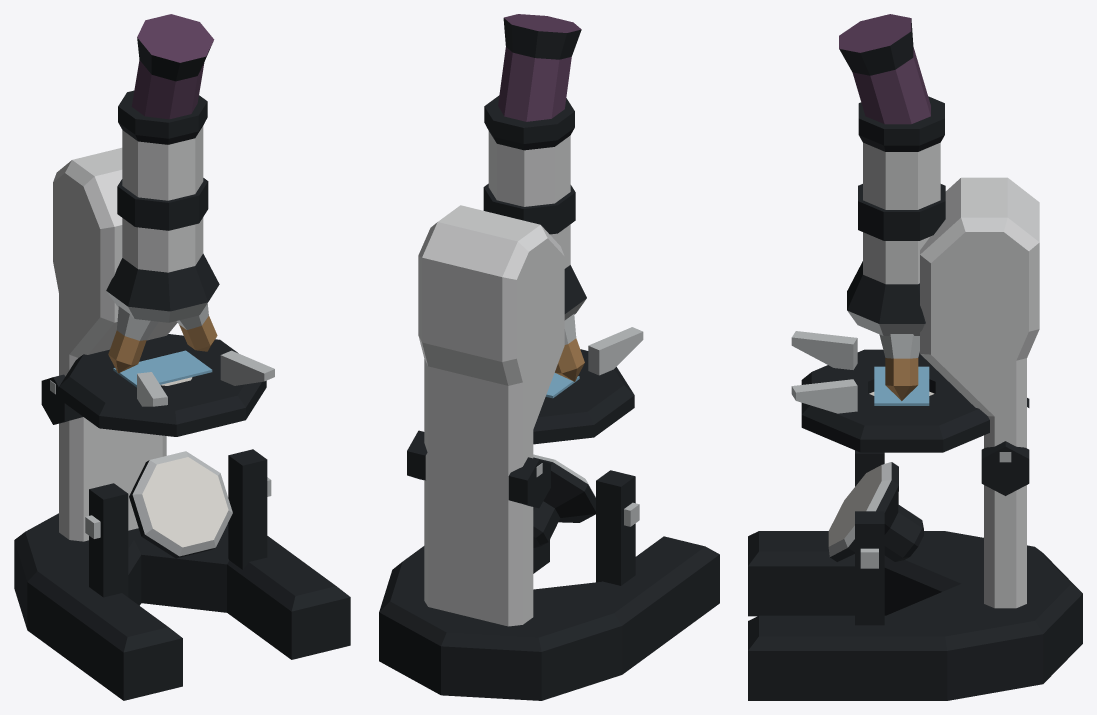
File: microscope-e7b9d5.glb
3 renders of one model, left to right at view 1: azimuth 30°, elevation 25°; view 2: azimuth 150°, elevation 25°; view 3: azimuth 270°, elevation 25°, orthographic. The views are drawn at different scales.
Parts seen in each view (by area): view 1: body, tube, illuminator-mesh, turret-mesh, slide-mesh, focus-knobs-mesh; view 2: body, tube, illuminator-mesh, focus-knobs-mesh, turret-mesh; view 3: body, tube, turret-mesh, illuminator-mesh, focus-knobs-mesh, slide-mesh.
Part boxes in pixels (bbox=[...]): body: bbox=[14, 147, 350, 700]; tube: bbox=[117, 14, 214, 272]; illuminator-mesh: bbox=[129, 451, 232, 558]; turret-mesh: bbox=[106, 253, 219, 373]; slide-mesh: bbox=[113, 350, 212, 387]; focus-knobs-mesh: bbox=[41, 374, 82, 424]; body: bbox=[379, 205, 719, 700]; tube: bbox=[483, 14, 581, 268]; illuminator-mesh: bbox=[533, 454, 595, 547]; focus-knobs-mesh: bbox=[407, 430, 550, 508]; turret-mesh: bbox=[555, 265, 586, 381]; body: bbox=[748, 177, 1082, 700]; tube: bbox=[839, 14, 945, 284]; turret-mesh: bbox=[847, 261, 925, 400]; illuminator-mesh: bbox=[828, 462, 923, 561]; focus-knobs-mesh: bbox=[981, 398, 1029, 495]; slide-mesh: bbox=[874, 366, 929, 405].
Size of the model in its own units: 0.119 by 0.2997 by 0.147.
